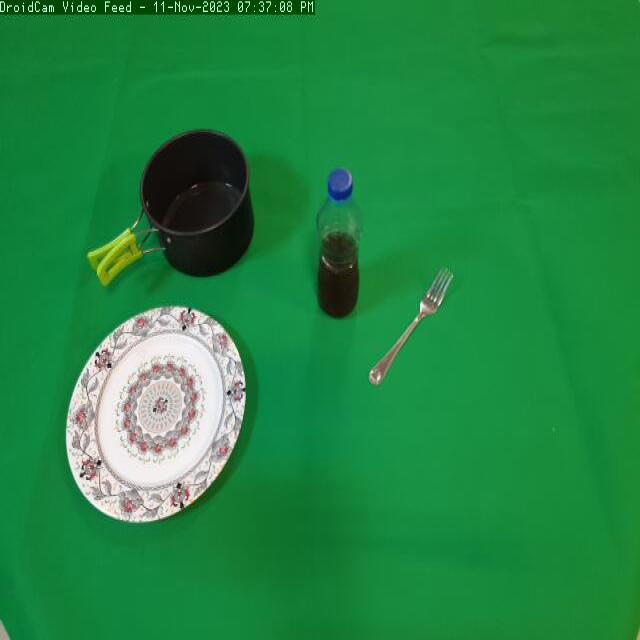fork: (366, 254, 460, 392)
fullbottle: (313, 162, 370, 327)
plate: (63, 296, 255, 529)
pot: (85, 124, 258, 289)
